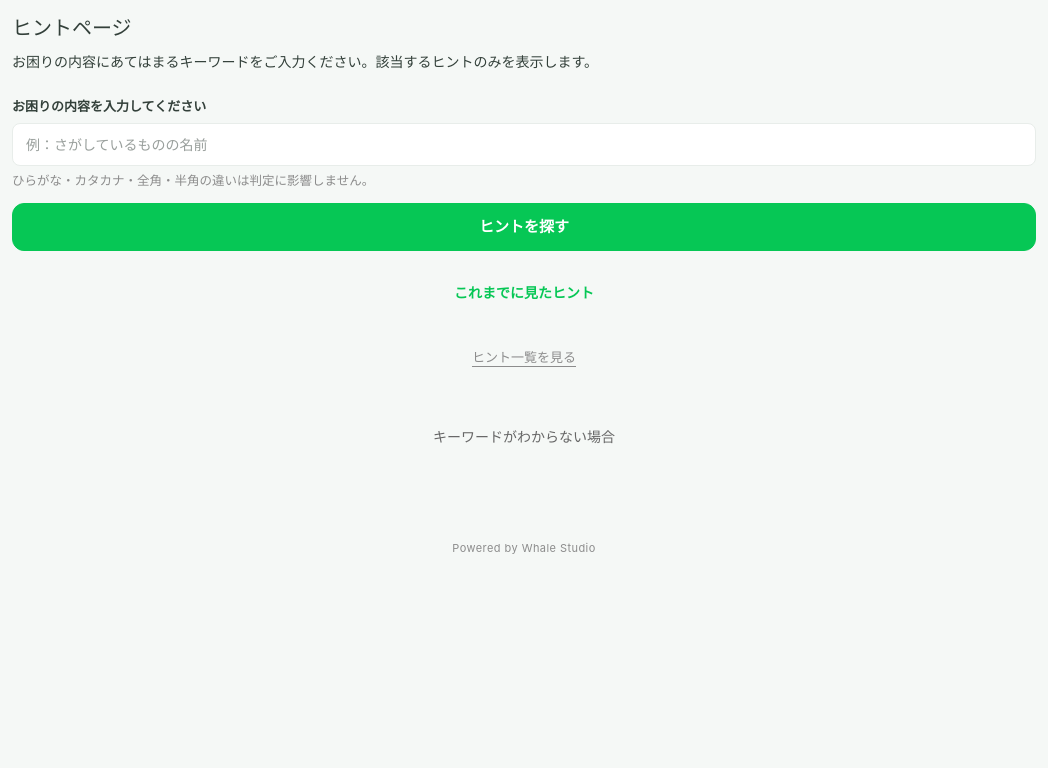
Test: 0 件 › 入力欄が error 状態になり、そのまま編集して再検索できる
The width and height of the screenshot is (1048, 768).
In the field labelled "お困りの内容を入力してください": x=524, y=144 [12,123,1036,166], type "そんな言葉はない"
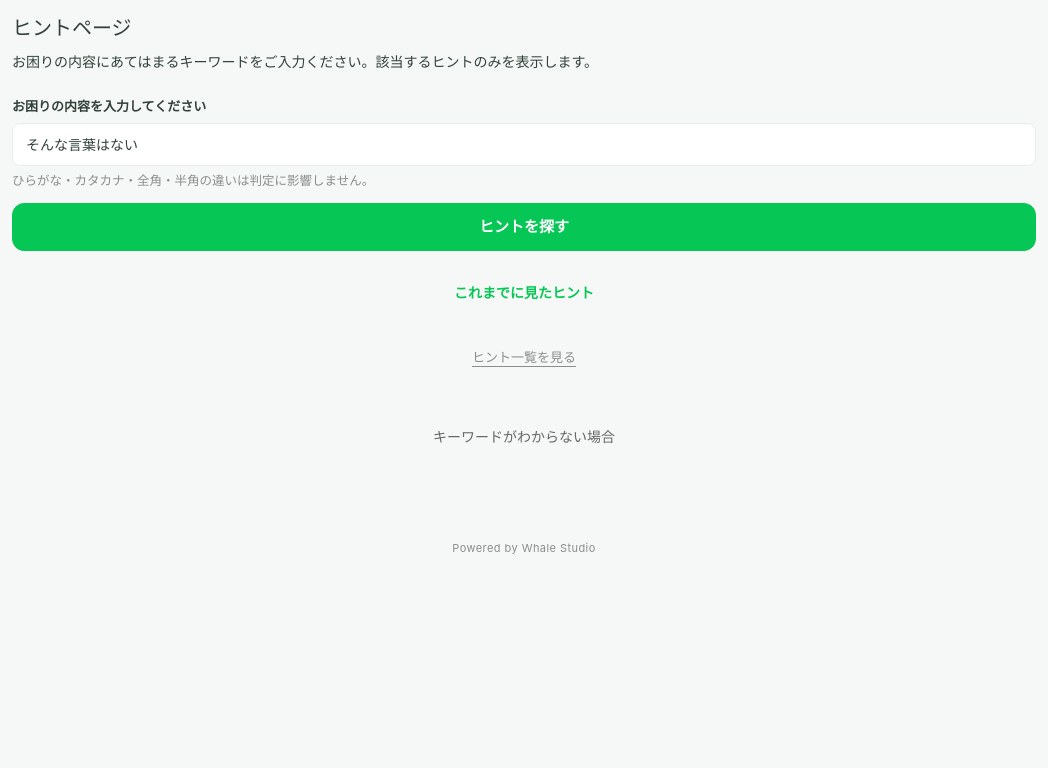
Click the button "ヒントを探す": x=524, y=227 [12,203,1036,251]
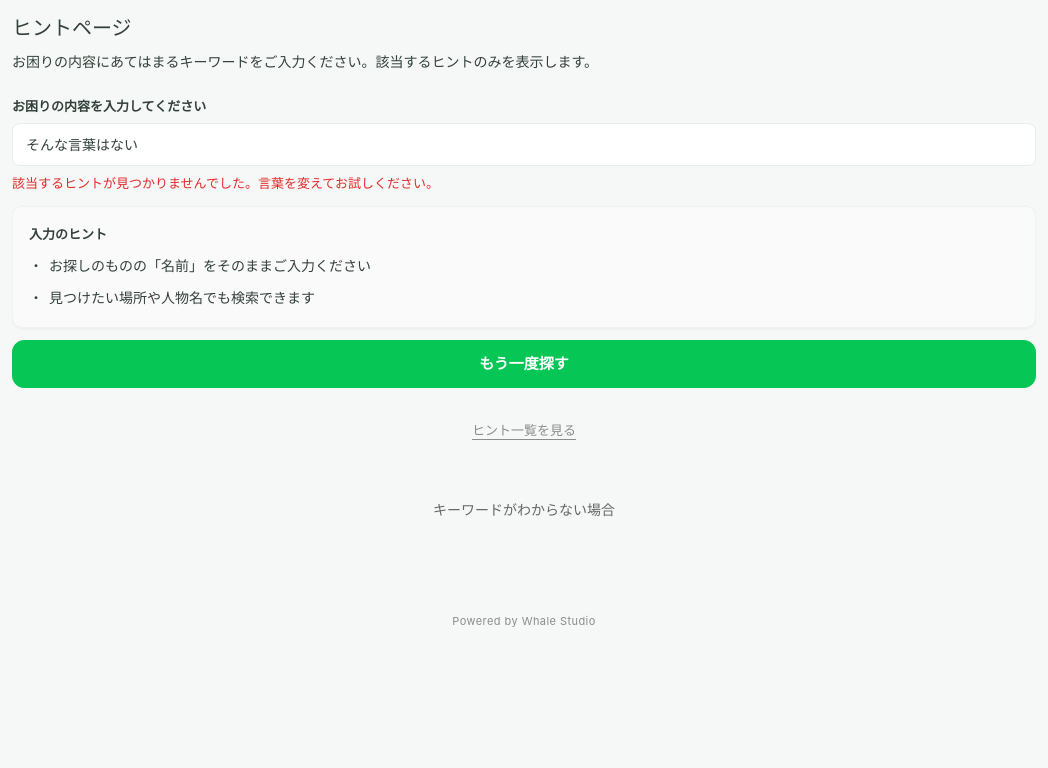
Replace the text in the field labelled "お困りの内容を入力してください" with "キーボード": x=524, y=144 [12,123,1036,166]
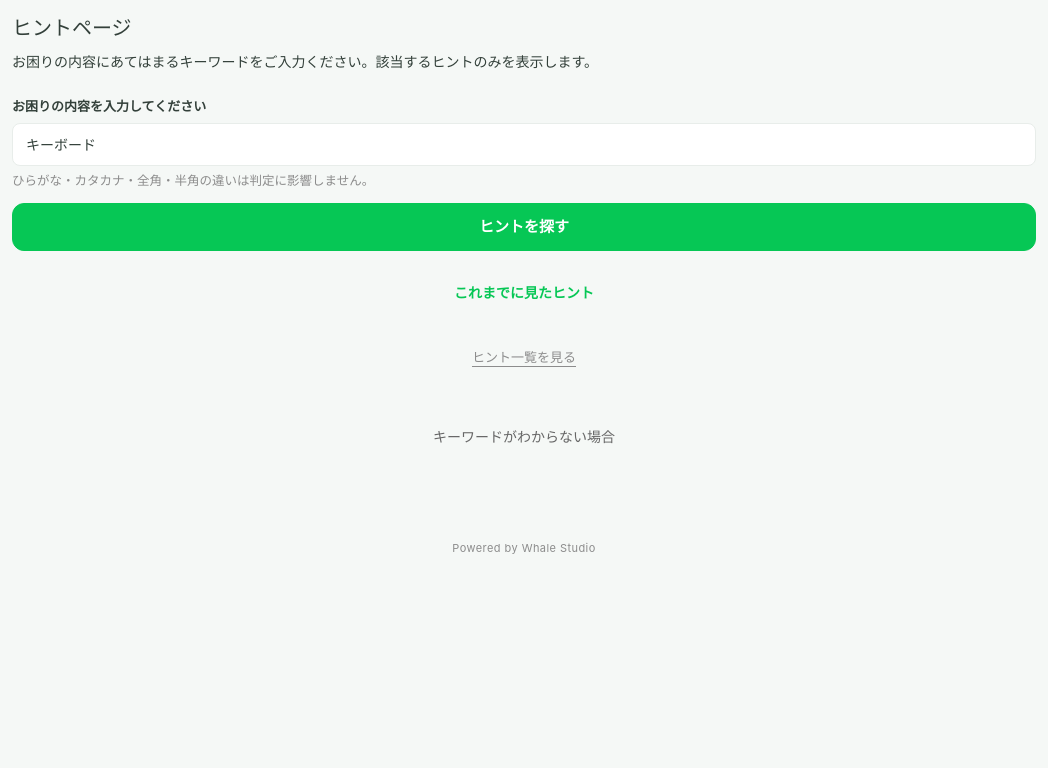
Click the button "ヒントを探す": x=524, y=227 [12,203,1036,251]
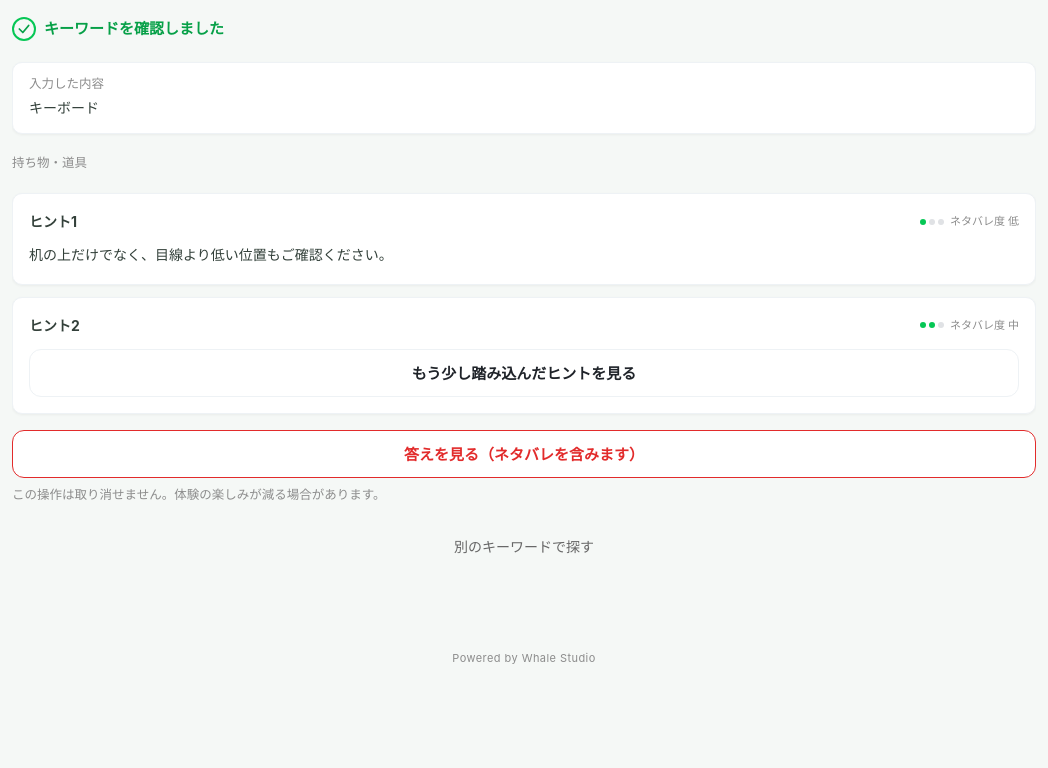
expect the text "キーワードを確認しました" is shown: met, box [12,17,224,41]
